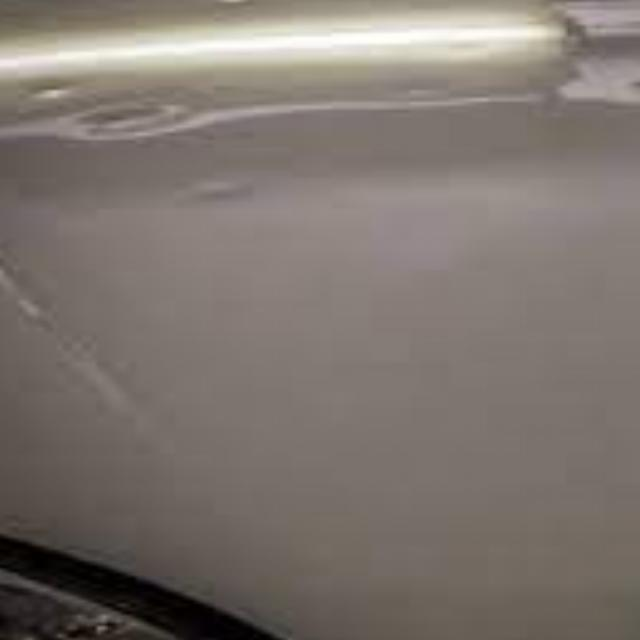dents: (59, 70, 178, 154), (170, 181, 282, 234), (20, 72, 103, 102)
